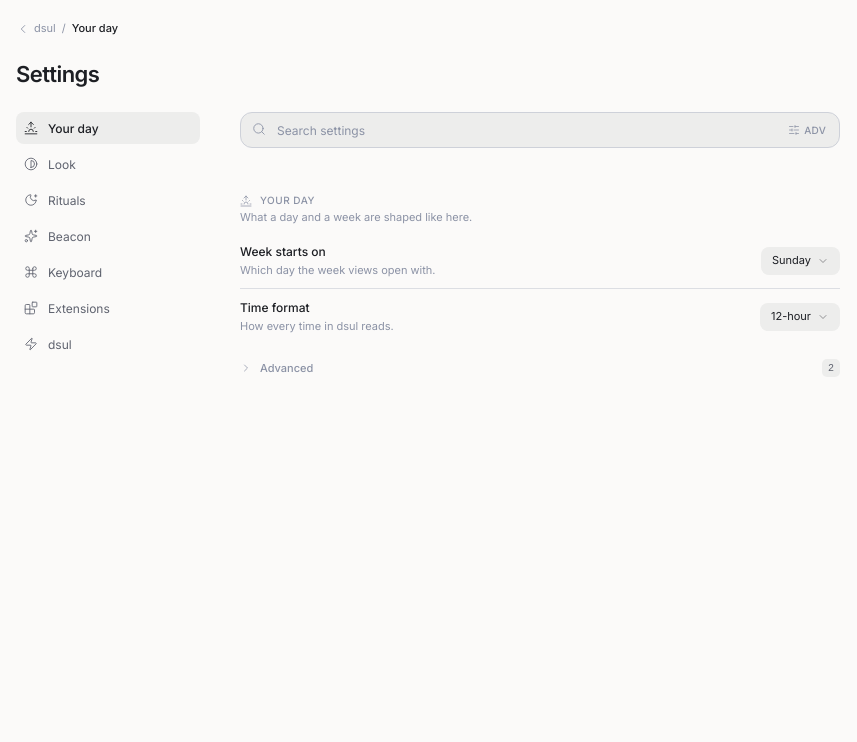
Test: a credential never reaches the screen › renders every secret row masked and empty, whatever read() returns
Type "credential" into the search field with test id "settings-search" at (540, 130), box [240,112,840,148]
(page scrolled)
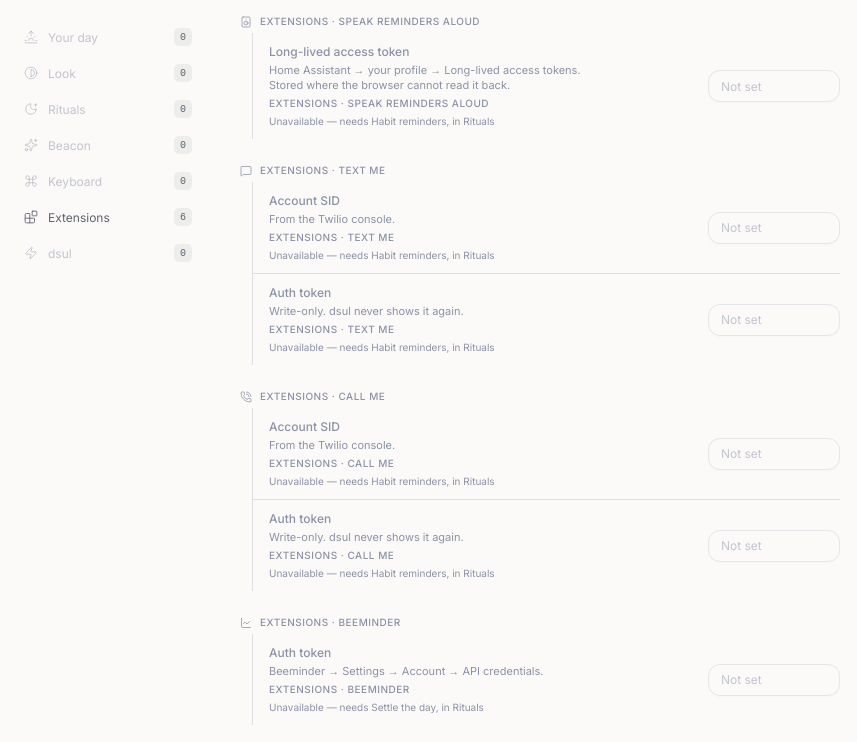
Expected: the element with test id "settings-status" does not show ""
Expected: the 3rd password field labelled "Auth token" is empty, [708,664,840,696]
